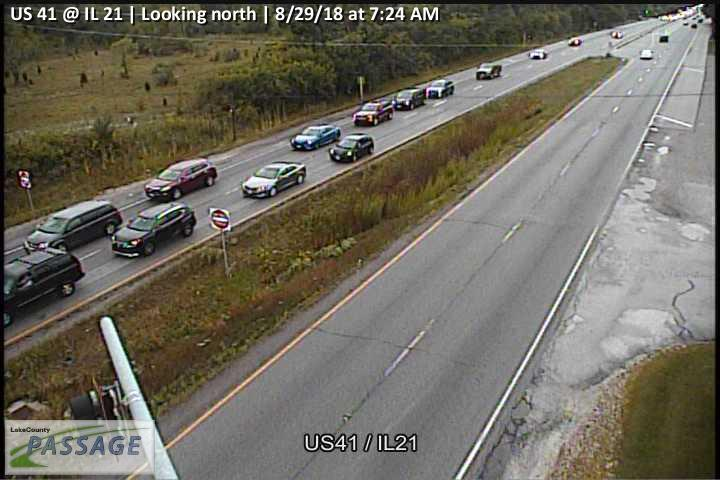SUV: (1, 248, 87, 323), (25, 198, 123, 254), (109, 201, 196, 259), (145, 156, 217, 199), (327, 132, 376, 163), (352, 96, 394, 126), (391, 87, 426, 110), (424, 77, 455, 100), (474, 61, 502, 81), (658, 33, 670, 44)
Sedan: (239, 160, 307, 199), (289, 123, 342, 152), (528, 48, 548, 61), (566, 34, 582, 48), (640, 48, 656, 60), (610, 28, 625, 40)
